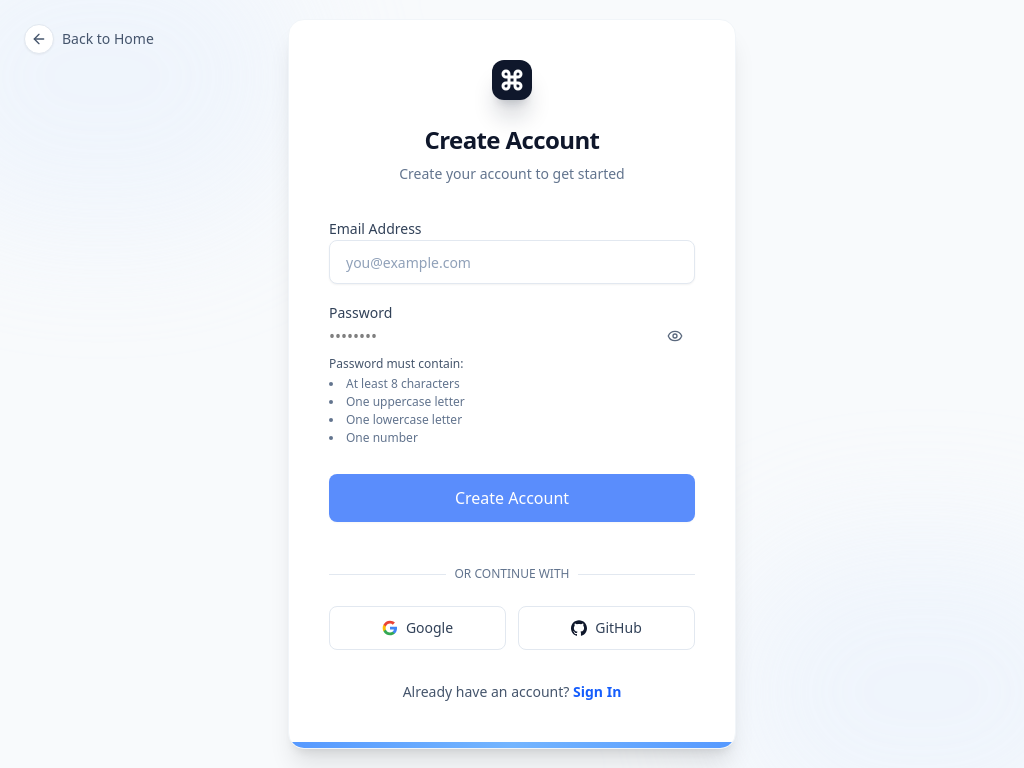
it: signUpPage › shows error message for already registered email
Type "existing@example.com" into the field labelled "Email Address" at (512, 262), box [329, 240, 695, 284]
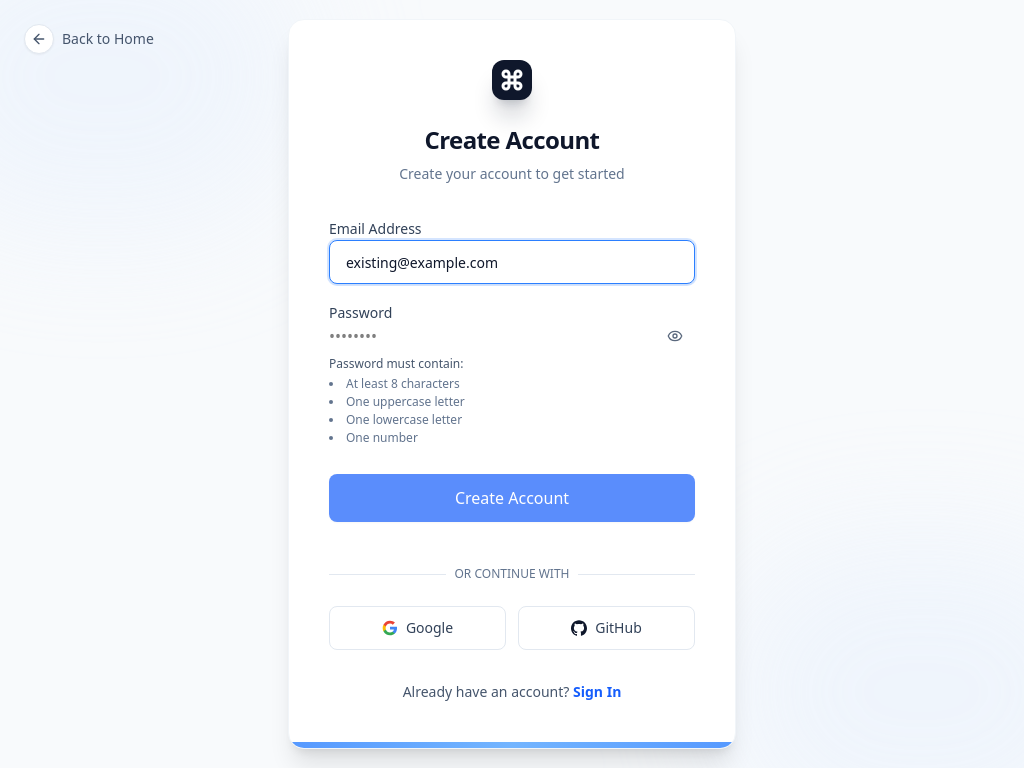
Type "Password123" into the password field labelled "Password" at (444, 336), box [329, 324, 560, 348]
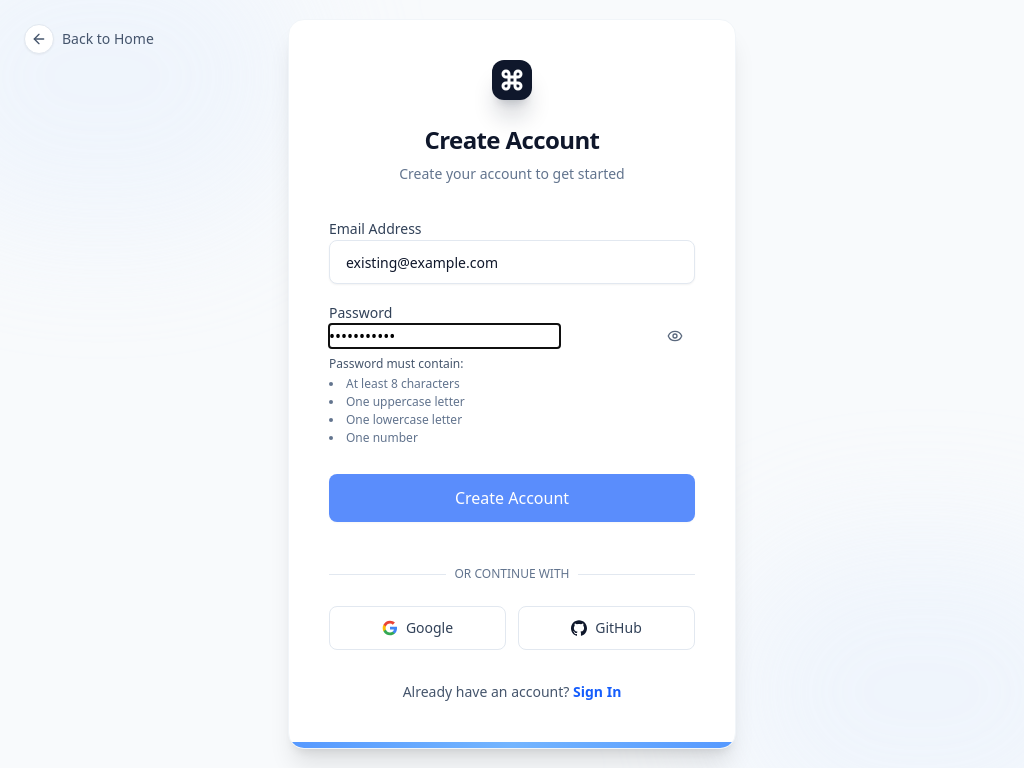
Press Tab
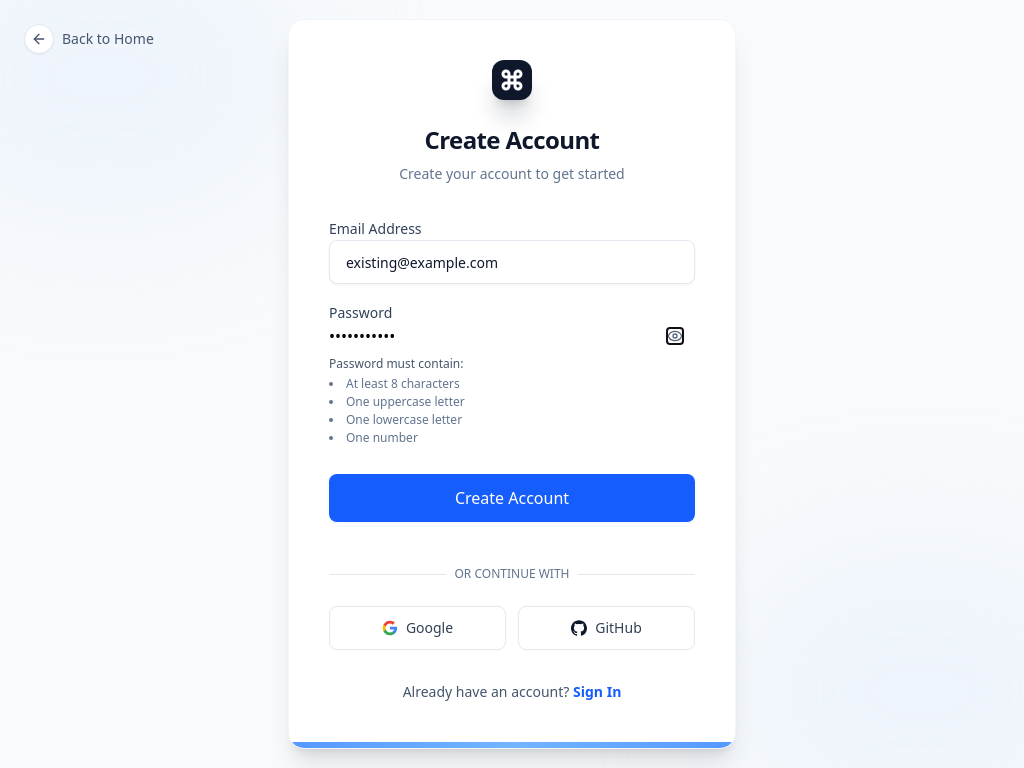
Click the button "Create Account" at (512, 498), box [329, 474, 695, 522]
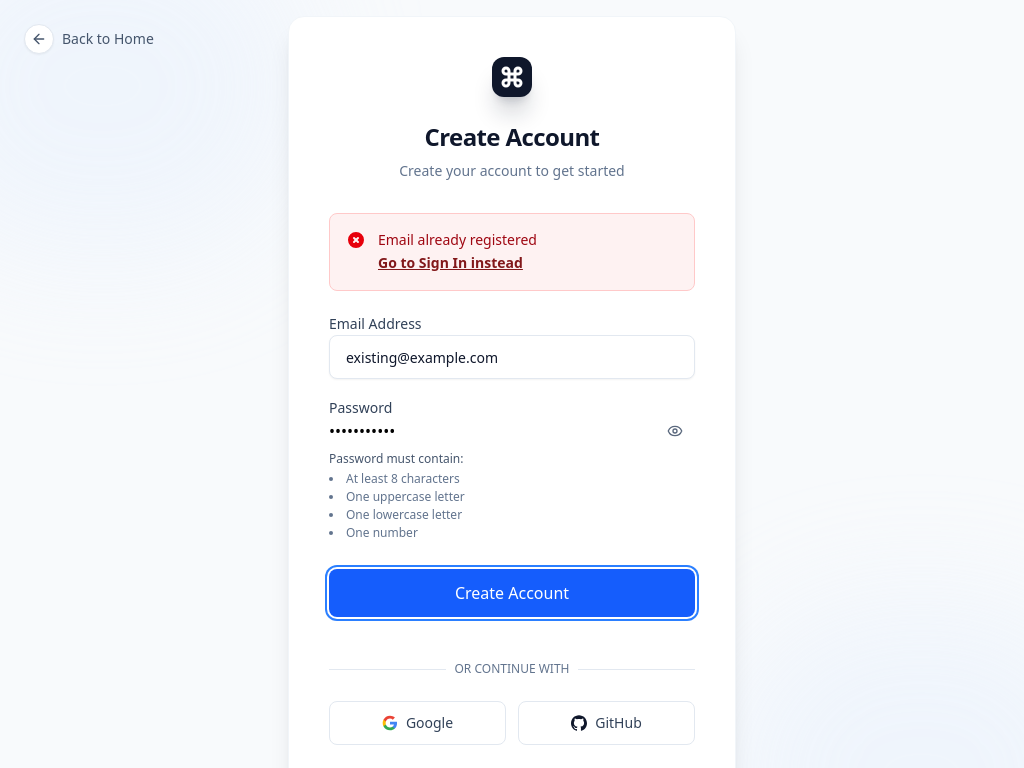
Expected: the text "Email already registered" is shown, [378, 230, 537, 249]
Expected: the link "Go to Sign In instead" is shown, [378, 253, 523, 272]
